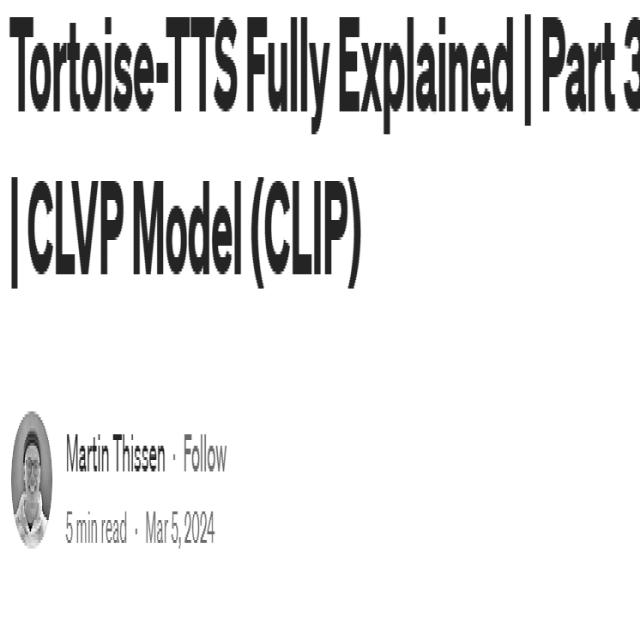word: (8, 11, 241, 145), (335, 4, 517, 134), (247, 159, 365, 310), (6, 159, 128, 298), (128, 167, 246, 307), (243, 6, 334, 140), (539, 5, 617, 142), (113, 420, 166, 490), (181, 420, 229, 487), (61, 421, 111, 480), (520, 6, 536, 141), (623, 3, 640, 119), (183, 502, 217, 549), (100, 505, 130, 558), (75, 502, 100, 555), (143, 504, 167, 556), (171, 507, 183, 559), (62, 501, 74, 549)
